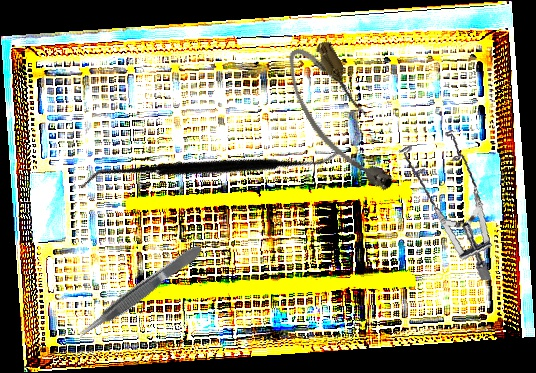Cannula: (276, 33, 404, 207)
Spatula Surgical: (78, 48, 344, 290)
Speculum: (379, 121, 515, 282)
Tissue Forceps: (73, 241, 207, 343)
